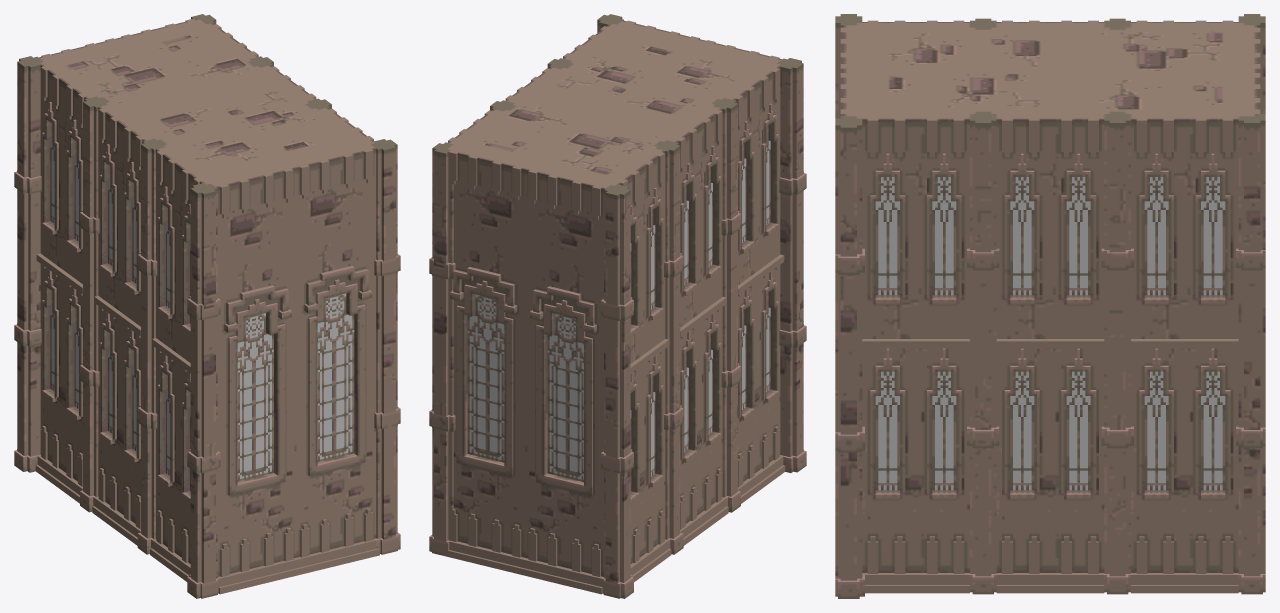
The model's file is Building_Block_L.fbx.
3 renders of one model, left to right at view 1: azimuth 30°, elevation 25°; view 2: azimuth 150°, elevation 25°; view 3: azimuth 270°, elevation 25°, orthographic. The views are drawn at different scales.
Parts seen in each view (by area): view 1: Building_Block_L; view 2: Building_Block_L; view 3: Building_Block_L.
Boxes of the visible parts, bbox=[...] form: Building_Block_L: bbox=[14, 14, 400, 598]; Building_Block_L: bbox=[429, 14, 806, 598]; Building_Block_L: bbox=[835, 14, 1265, 598].
Size of the model in its own units: 510 by 965 by 800.
